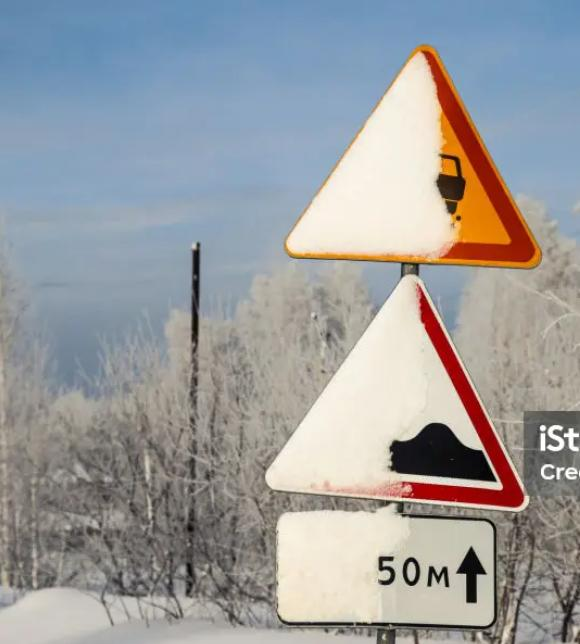obstructed_road_sign: (266, 276, 526, 510), (286, 46, 540, 267), (276, 506, 495, 629)
